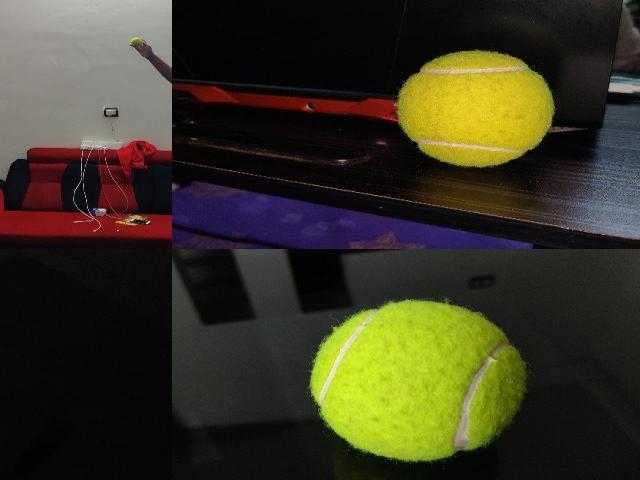tennis-ball: (306, 298, 528, 462), (394, 48, 554, 168), (130, 38, 142, 46)
